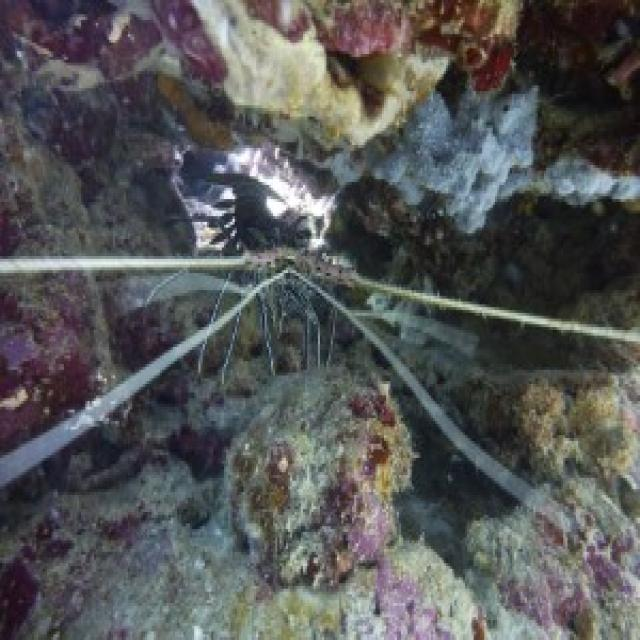lobsters: (192, 266, 342, 390)
